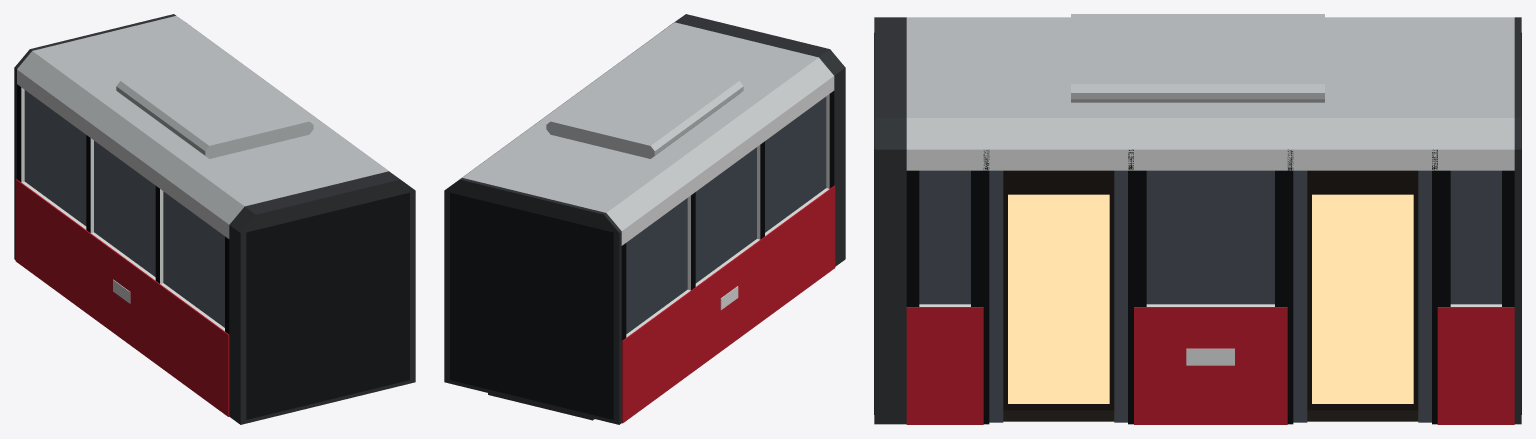
File: 52t-c-open.glb
The picture shows the model from 3 angles, left to right: view 1: azimuth 30°, elevation 25°; view 2: azimuth 150°, elevation 25°; view 3: azimuth 270°, elevation 25°; orthographic projection. The views are drawn at different scales.
Parts seen in each view (by area): view 1: 52t-c-open; view 2: 52t-c-open; view 3: 52t-c-open.
Part boxes in pixels (x1,y1,x2,y2): 52t-c-open: (14, 14, 415, 424); 52t-c-open: (444, 14, 845, 424); 52t-c-open: (874, 14, 1521, 424).
Size of the model in its own units: 2.55 by 3.14 by 5.6.
